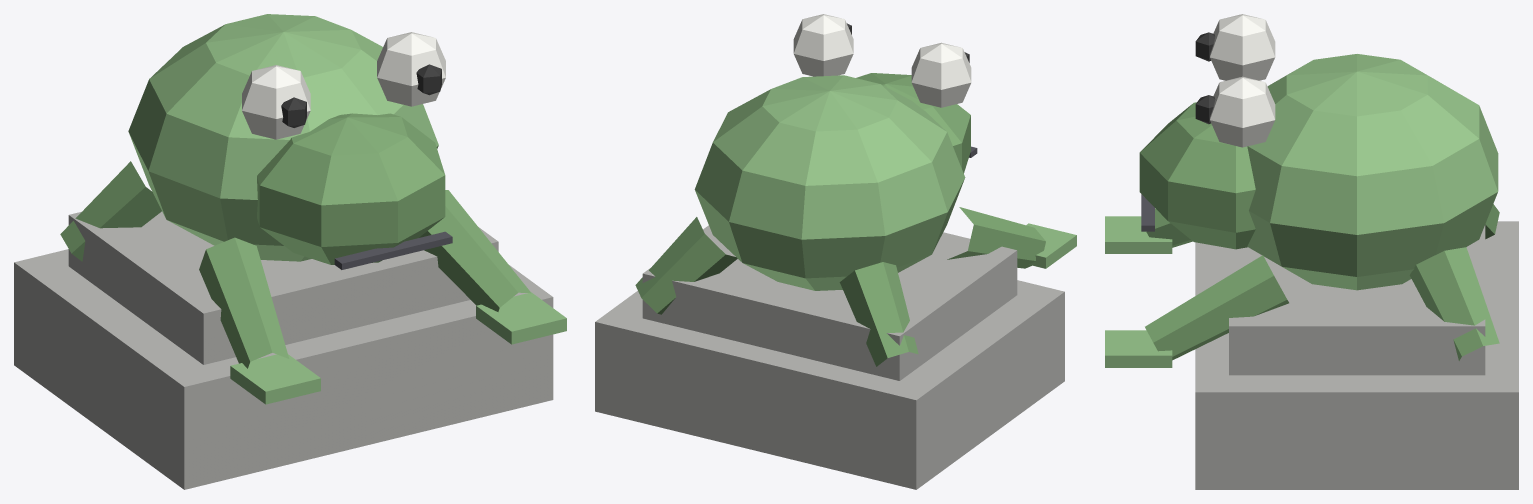
The model's file is tsukuba_gama_frog_statue.glb.
The picture shows the model from 3 angles, left to right: view 1: azimuth 30°, elevation 25°; view 2: azimuth 150°, elevation 25°; view 3: azimuth 270°, elevation 25°; orthographic projection. The views are drawn at different scales.
Parts seen in each view (by area): view 1: tsukuba_gama_frog_statue; view 2: tsukuba_gama_frog_statue; view 3: tsukuba_gama_frog_statue.
Part boxes in pixels (x1=…): tsukuba_gama_frog_statue: x1=14, y1=14, x2=566, y2=489; tsukuba_gama_frog_statue: x1=595, y1=14, x2=1076, y2=489; tsukuba_gama_frog_statue: x1=1105, y1=14, x2=1518, y2=489.
Bounding box in the file's own units: 3 × 2.93 × 3.07.
